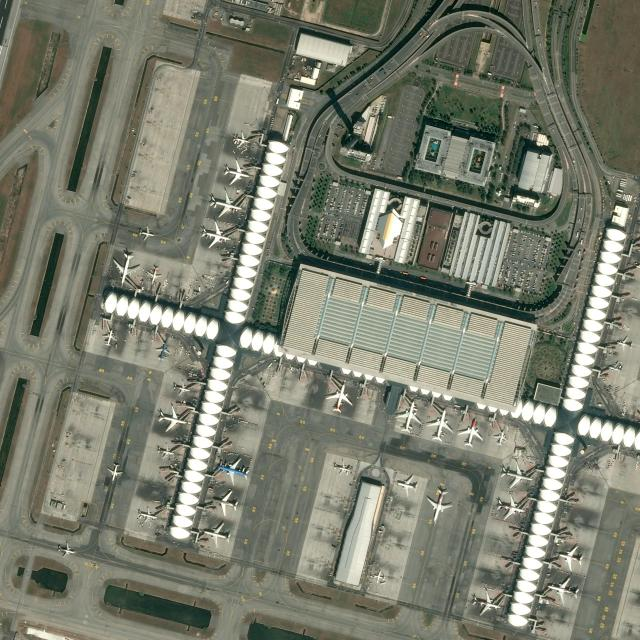aircraft: (424, 486, 454, 522), (394, 400, 422, 435), (500, 459, 532, 489), (208, 190, 242, 217), (326, 382, 354, 414), (112, 250, 138, 284), (426, 408, 452, 442), (457, 416, 483, 449), (218, 456, 248, 484), (547, 576, 577, 604), (200, 221, 229, 249), (158, 403, 186, 432), (470, 589, 500, 615), (203, 520, 230, 548), (494, 495, 524, 520), (558, 544, 584, 570), (222, 159, 248, 184), (212, 490, 238, 515), (396, 473, 418, 495), (105, 462, 124, 482), (154, 341, 172, 361), (137, 506, 157, 524), (232, 130, 250, 148), (145, 266, 163, 284), (100, 330, 116, 348), (172, 380, 190, 396), (58, 542, 76, 558), (332, 459, 350, 475), (616, 334, 632, 352), (138, 225, 156, 240), (494, 427, 508, 446), (158, 444, 175, 458), (607, 361, 624, 374), (374, 569, 384, 583)
